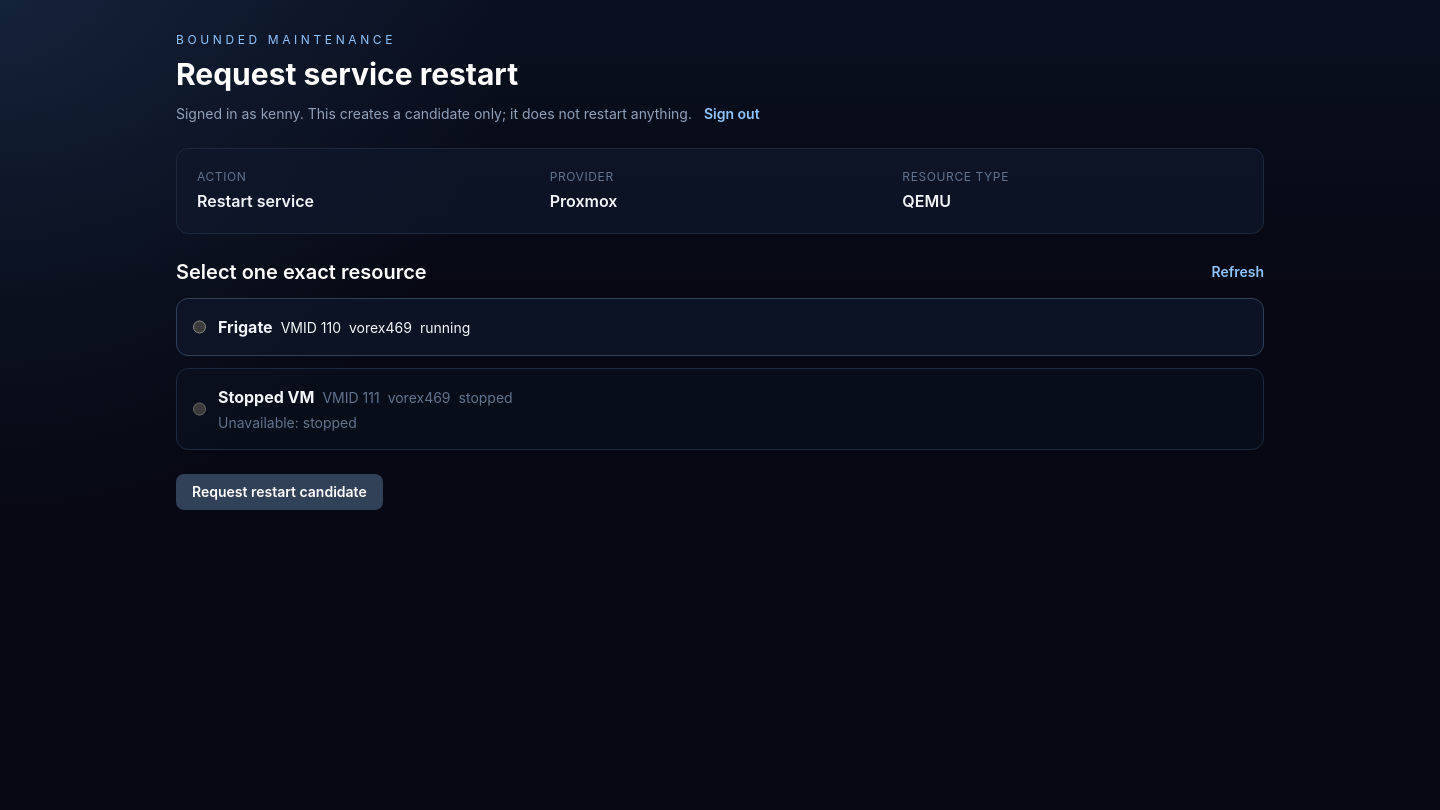
MaintenanceRequestPage › submits the exact selected resource and CAS then hands off
Step 1. Click the radio button labelled "Frigate" → (200, 327), box [193, 315, 206, 339]
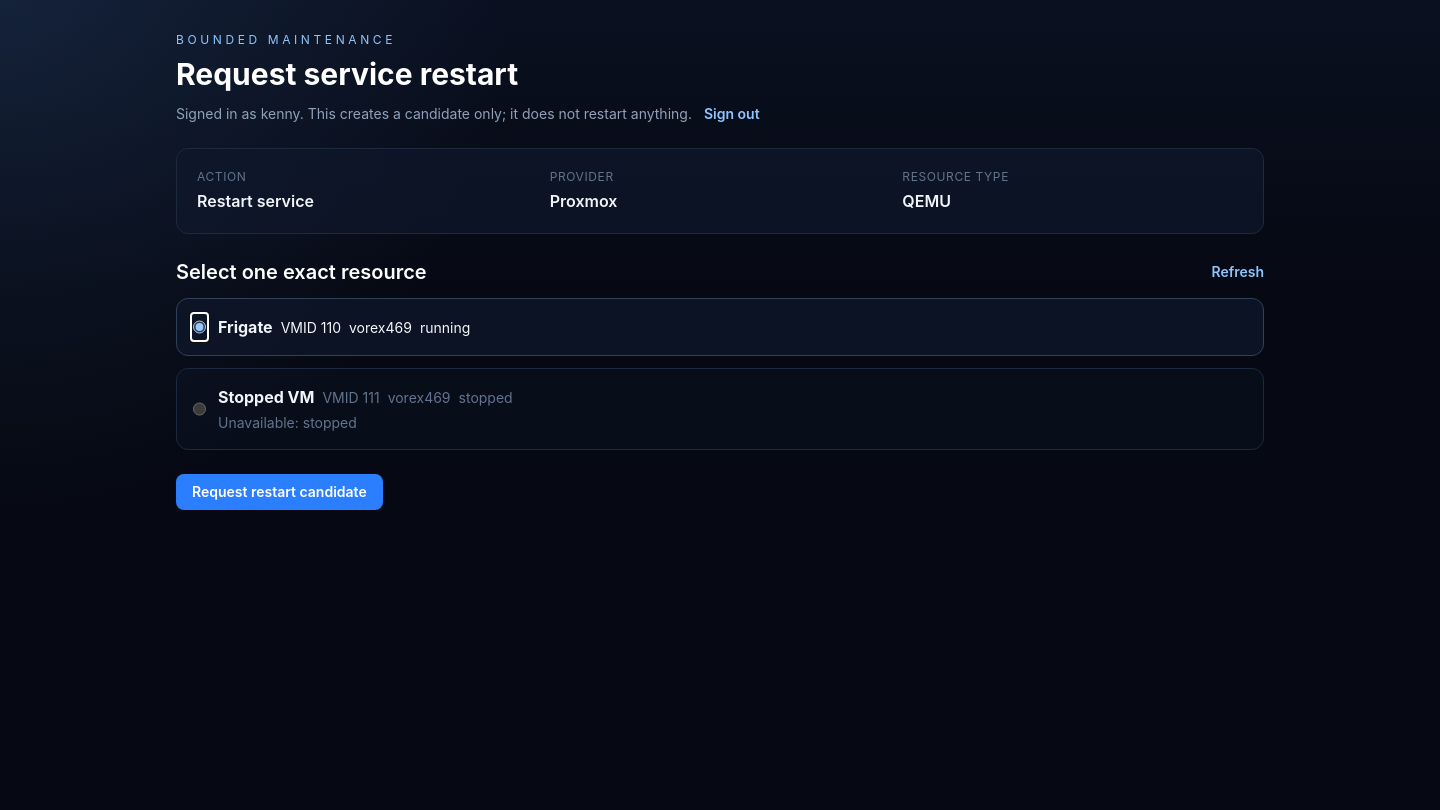
Step 2. Click the button "Request restart candidate" → (279, 492), box [176, 474, 383, 510]
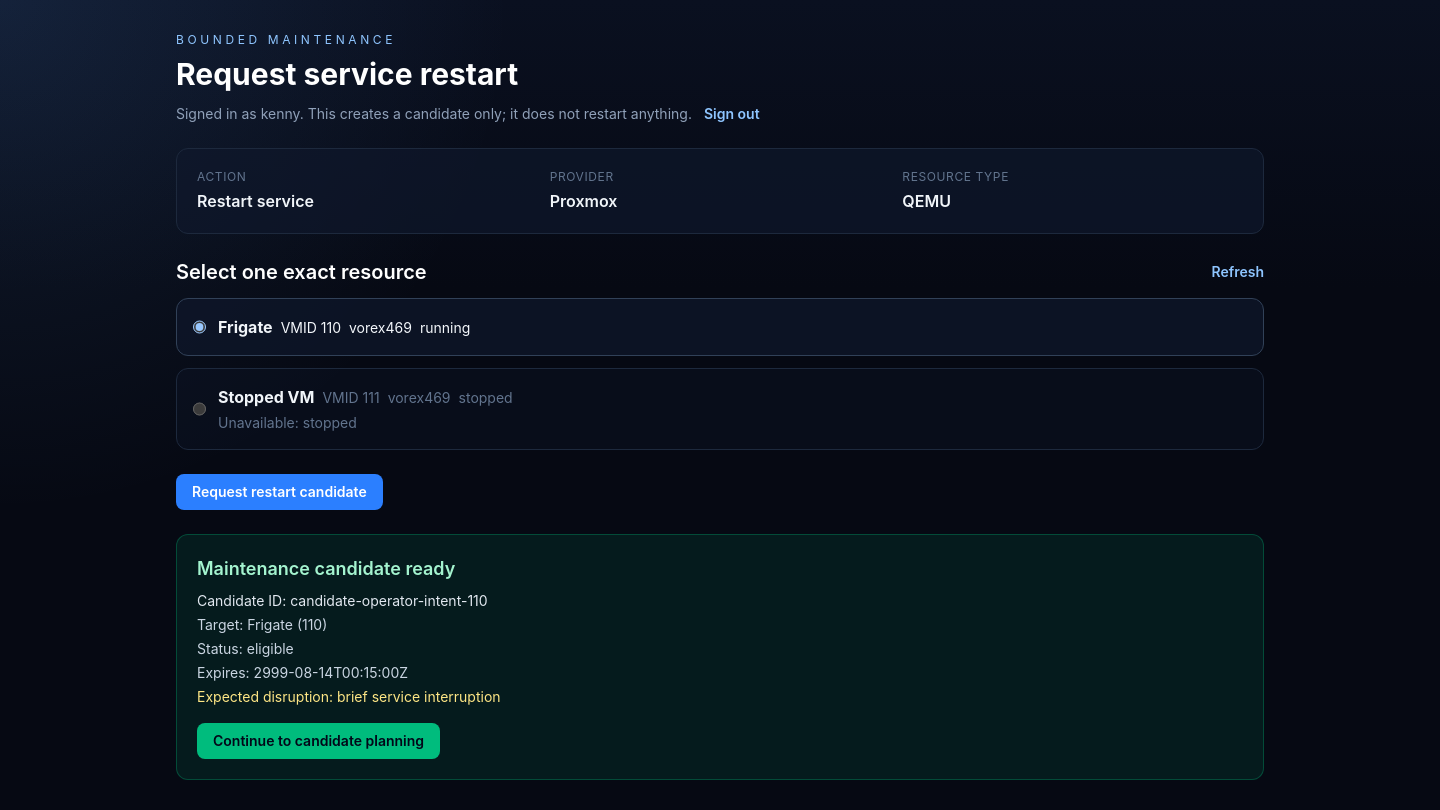
Expected: the text "Candidate ID: candidate-operator-intent-110" is shown, [197, 592, 488, 609]
Expected: the text "Expected disruption: brief service interruption" is shown, [197, 688, 501, 705]
